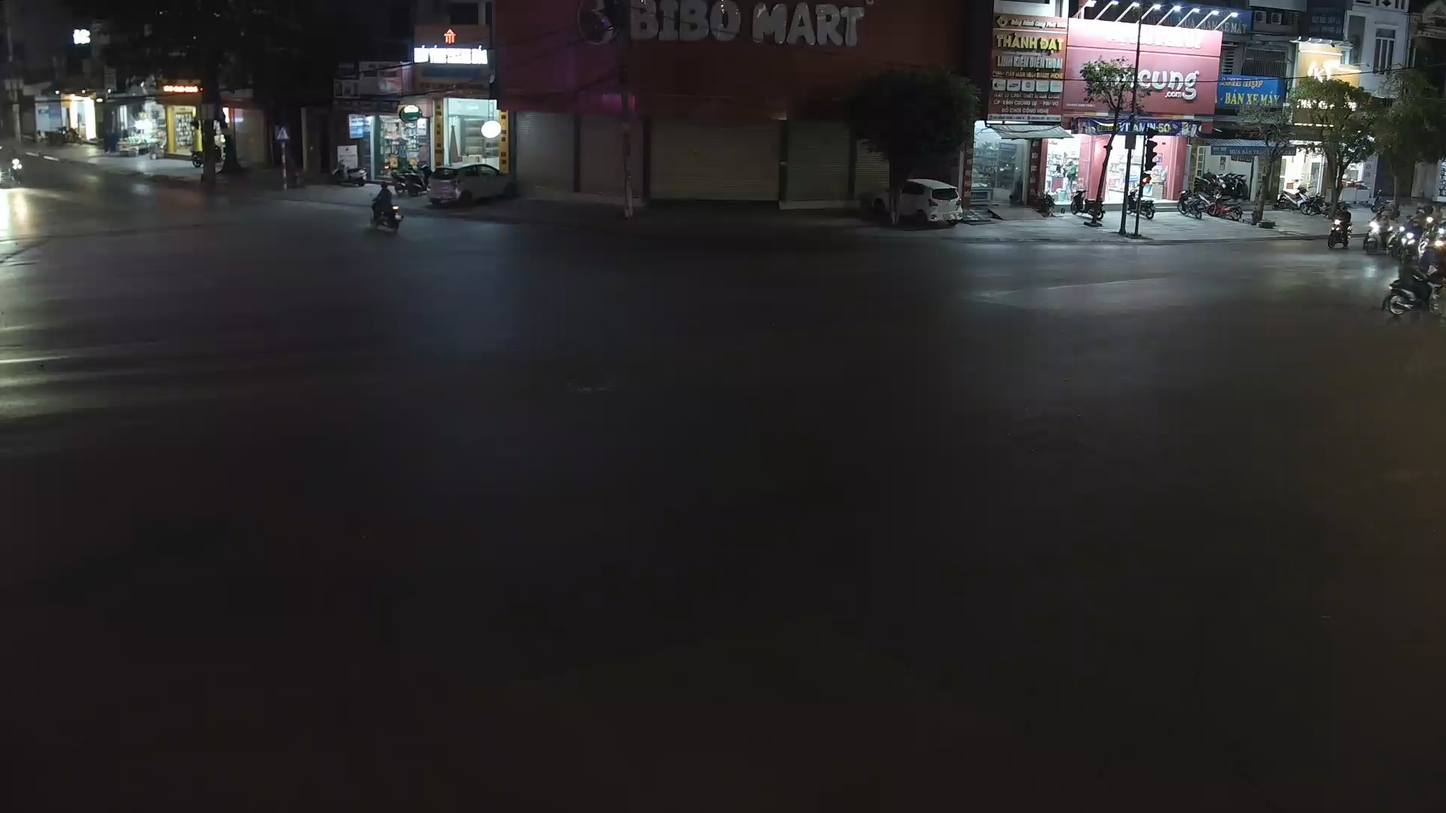motorbike: (1380, 245, 1445, 326)
